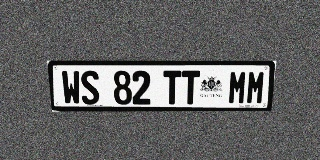2: (132, 71, 150, 104)
8: (113, 71, 132, 104)
M: (228, 71, 248, 104), (246, 71, 266, 104)
S: (80, 71, 100, 105)
T: (181, 71, 200, 104), (163, 71, 181, 104)
W: (61, 71, 81, 105)
